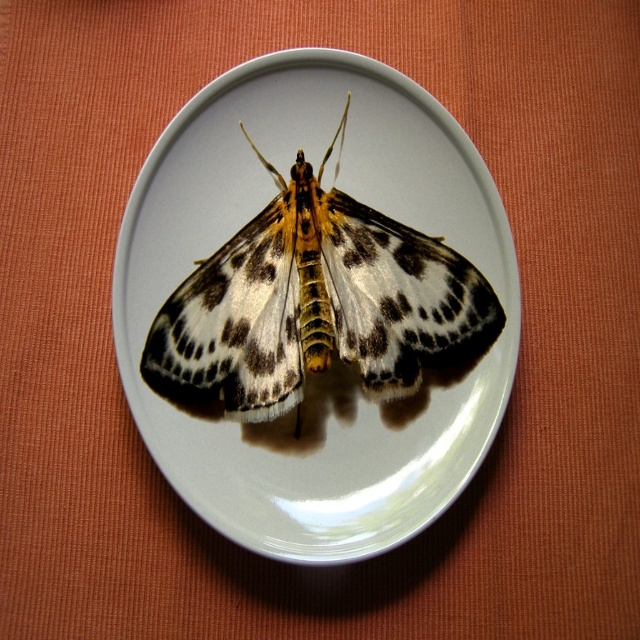Butterfly: (139, 93, 495, 427)
